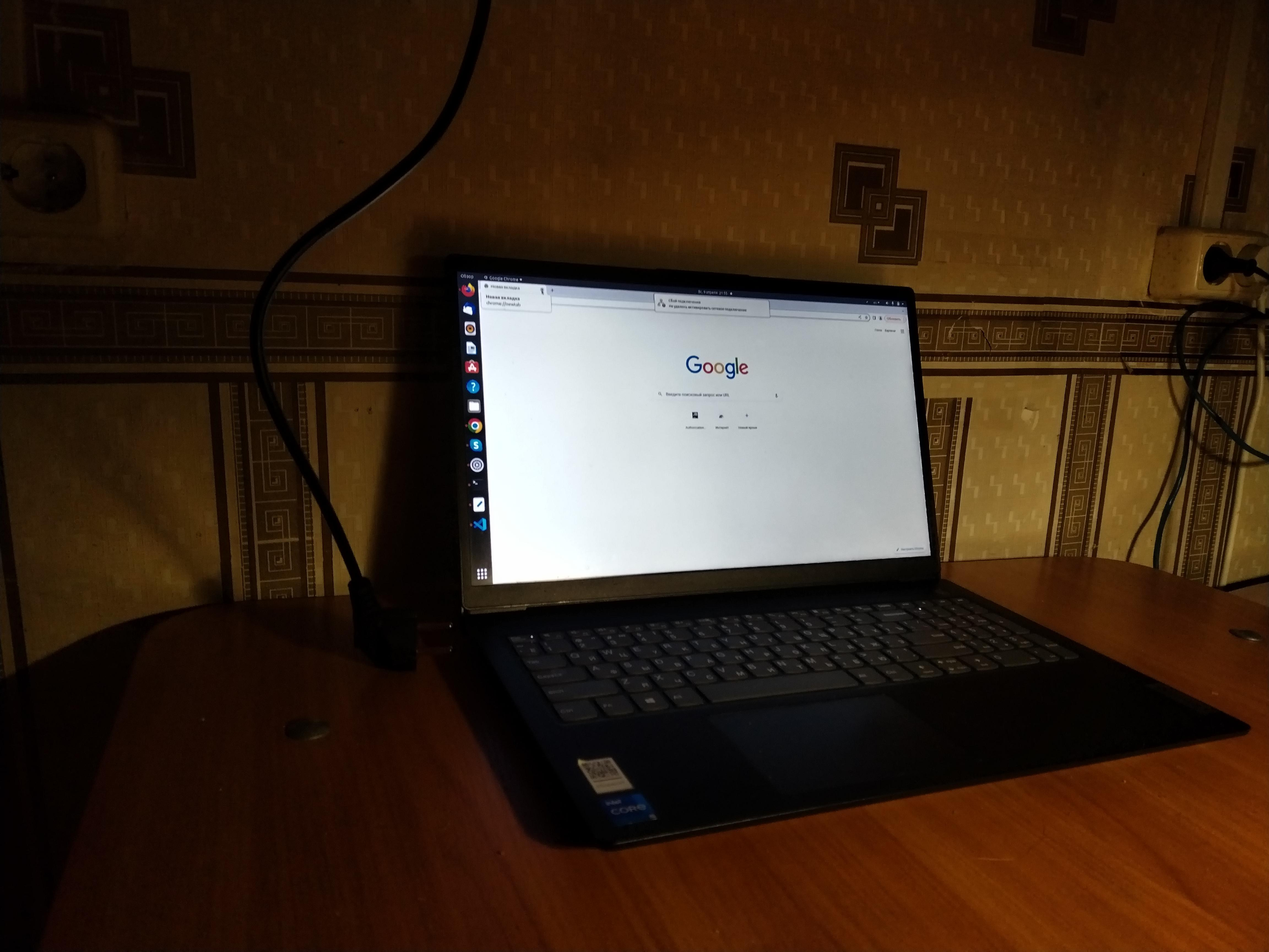monitor: (438, 251, 949, 643)
